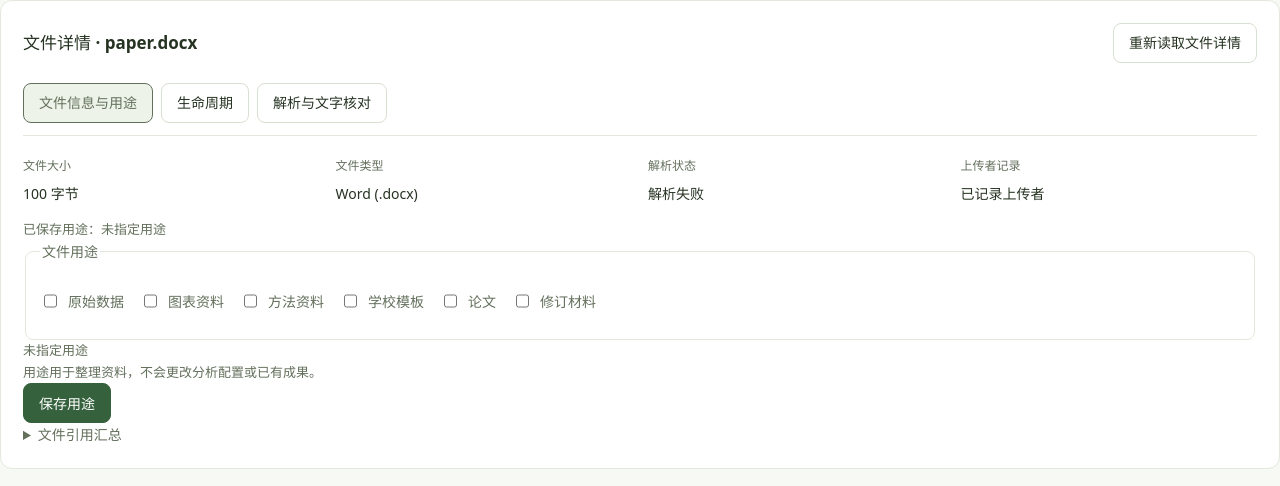
Test: Word file details show document history even after latest failure and no Excel preview description
The width and height of the screenshot is (1280, 486).
Click the button "解析与文字核对" at [322, 103], box left=257, top=83, right=387, bottom=123
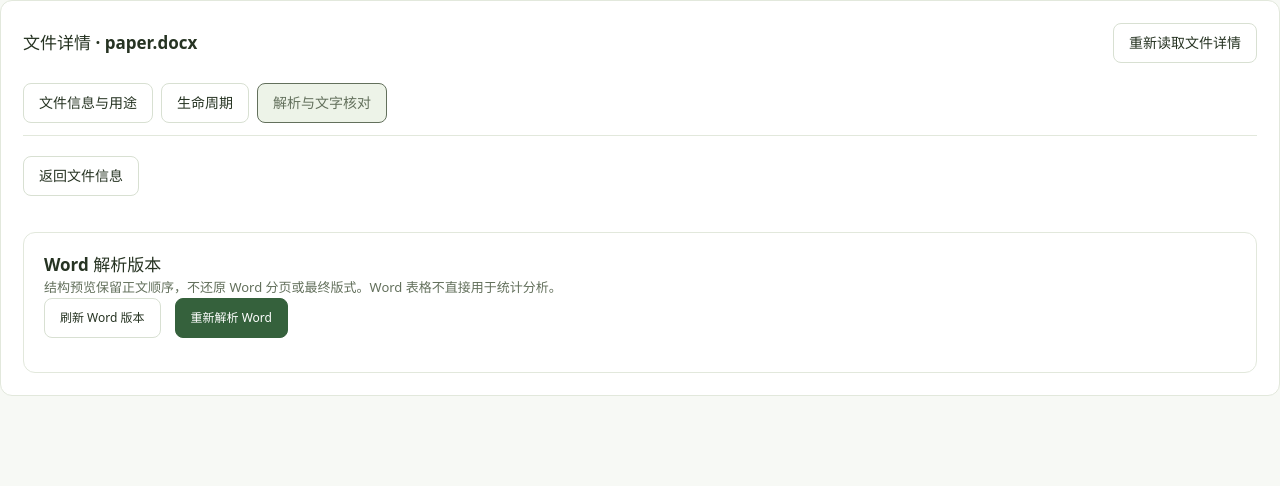
Expected: the heading "Word 解析版本" is shown, left=44, top=253, right=161, bottom=276
